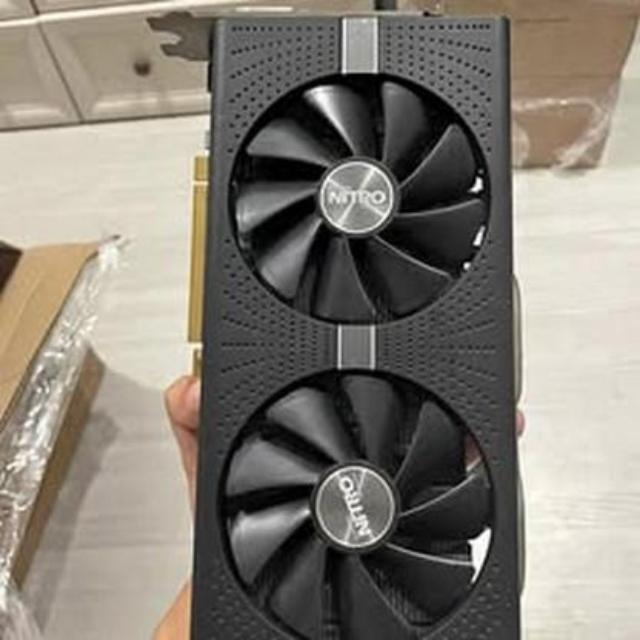GPU: (182, 0, 524, 640)
